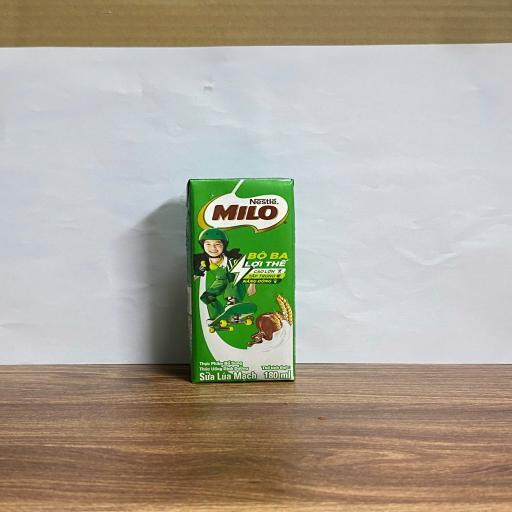milo: (194, 180, 297, 383)
